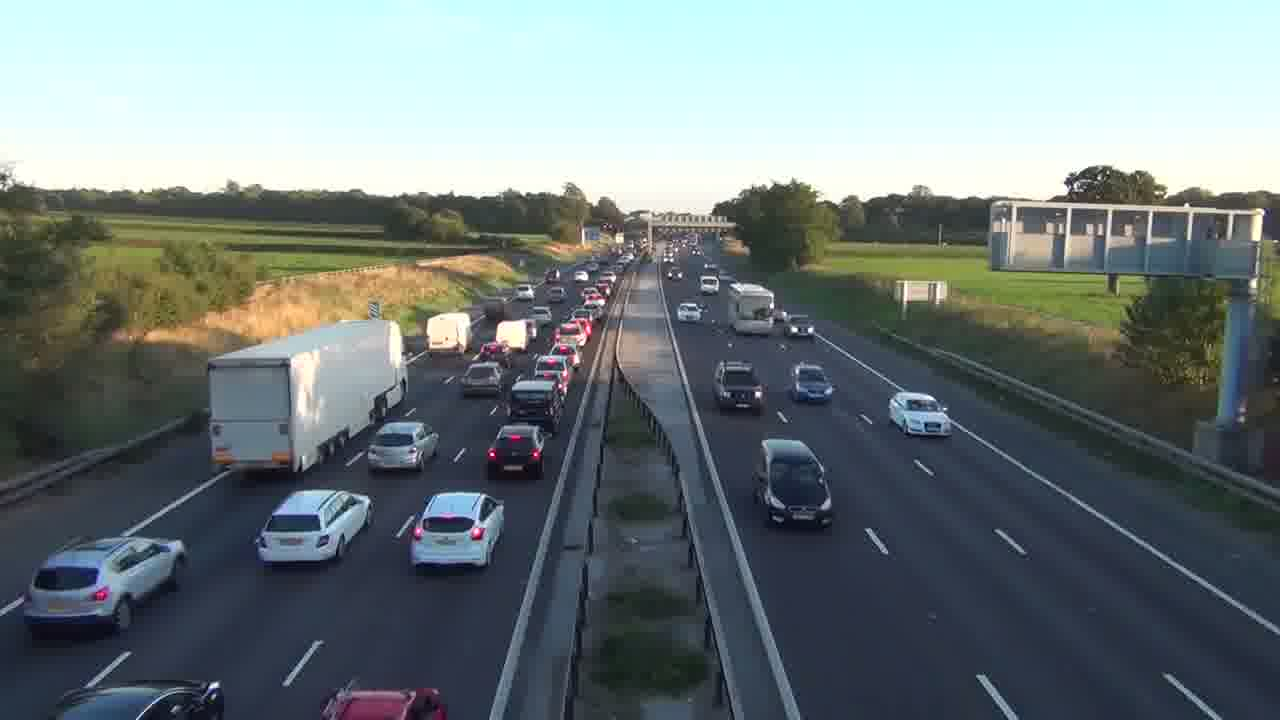car: (22, 534, 188, 637), (53, 650, 226, 719), (253, 488, 373, 568), (394, 491, 506, 573), (751, 437, 834, 528), (319, 683, 448, 720), (367, 420, 439, 473), (486, 423, 546, 481), (888, 391, 951, 438), (790, 362, 834, 404), (461, 362, 502, 397)
truck: (726, 281, 775, 335), (426, 310, 473, 354)
